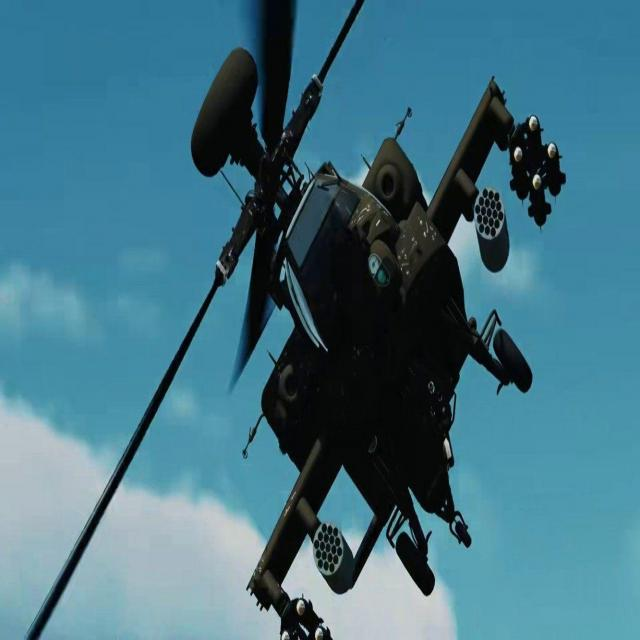MIL_HELO: (12, 0, 570, 640)
